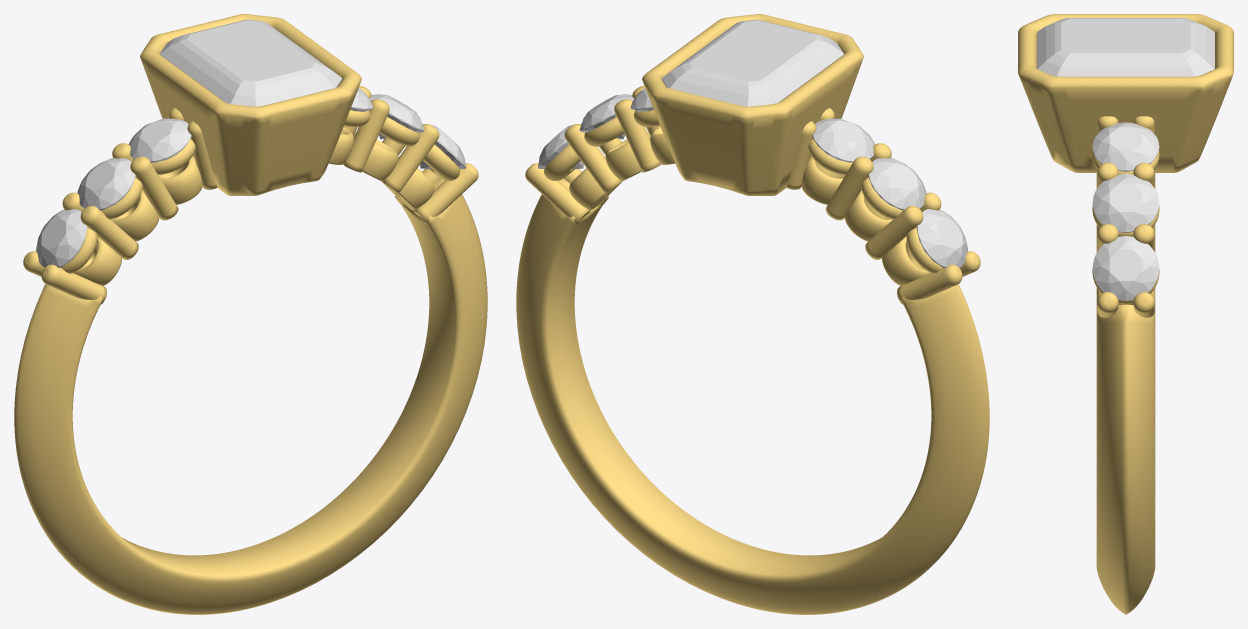
File: diamond-emerald-yellowgold-bezelset-knifeedge-7stone.glb
3 views of the same model, side by side, from view 1: azimuth 30°, elevation 25°; view 2: azimuth 150°, elevation 25°; view 3: azimuth 270°, elevation 25° (orthographic).
Parts seen in each view (by area): view 1: metal.001, stone.001, side.006, side.007, side.008, side.010, side.011; view 2: metal.001, stone.001, side.006, side.007, side.008, side.010, side.011; view 3: metal.001, stone.001, side.011, side.010, side.009.
Boxes of the visible parts, x1,y1,x2,y2 form: metal.001: (14, 14, 487, 614); stone.001: (160, 19, 342, 106); side.006: (36, 209, 87, 267); side.007: (77, 158, 135, 210); side.008: (128, 118, 191, 162); side.010: (369, 94, 424, 139); side.011: (420, 124, 465, 168); metal.001: (516, 14, 989, 614); stone.001: (661, 19, 843, 106); side.006: (916, 209, 967, 267); side.007: (868, 158, 926, 210); side.008: (812, 118, 875, 162); side.010: (579, 94, 634, 139); side.011: (538, 124, 583, 168); metal.001: (1018, 14, 1233, 614); stone.001: (1037, 18, 1214, 76); side.011: (1092, 236, 1159, 300); side.010: (1092, 174, 1159, 232); side.009: (1092, 122, 1159, 171).
Size of the model in its own units: 20.4 by 22.94 by 8.11.
